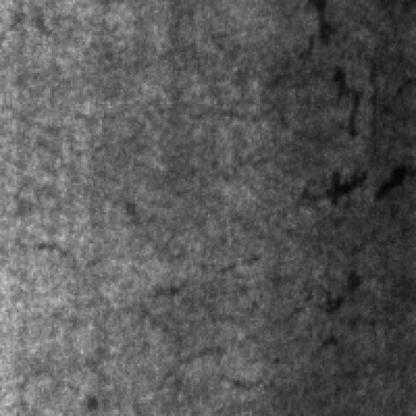crazing: (38, 233, 276, 385), (250, 25, 360, 141)
